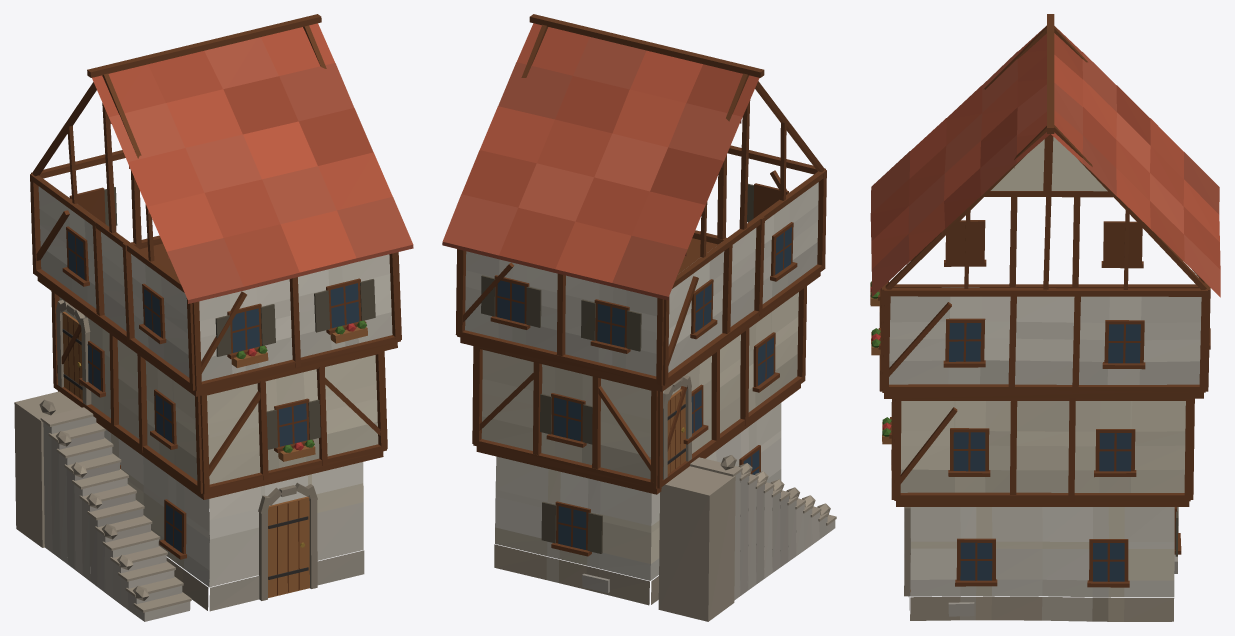
Rendered from townhouse.glb.
3 renders of one model, left to right at view 1: azimuth 30°, elevation 25°; view 2: azimuth 150°, elevation 25°; view 3: azimuth 270°, elevation 25°, orthographic.
Visible parts, largest first — view 1: buildings/townhouse; view 2: buildings/townhouse; view 3: buildings/townhouse.
Boxes of the visible parts, <box> form: buildings/townhouse: <box>14,14,413,621</box>; buildings/townhouse: <box>442,14,836,621</box>; buildings/townhouse: <box>870,14,1220,621</box>.
Size of the model in its own units: 5.45 by 10.6 by 6.64.
